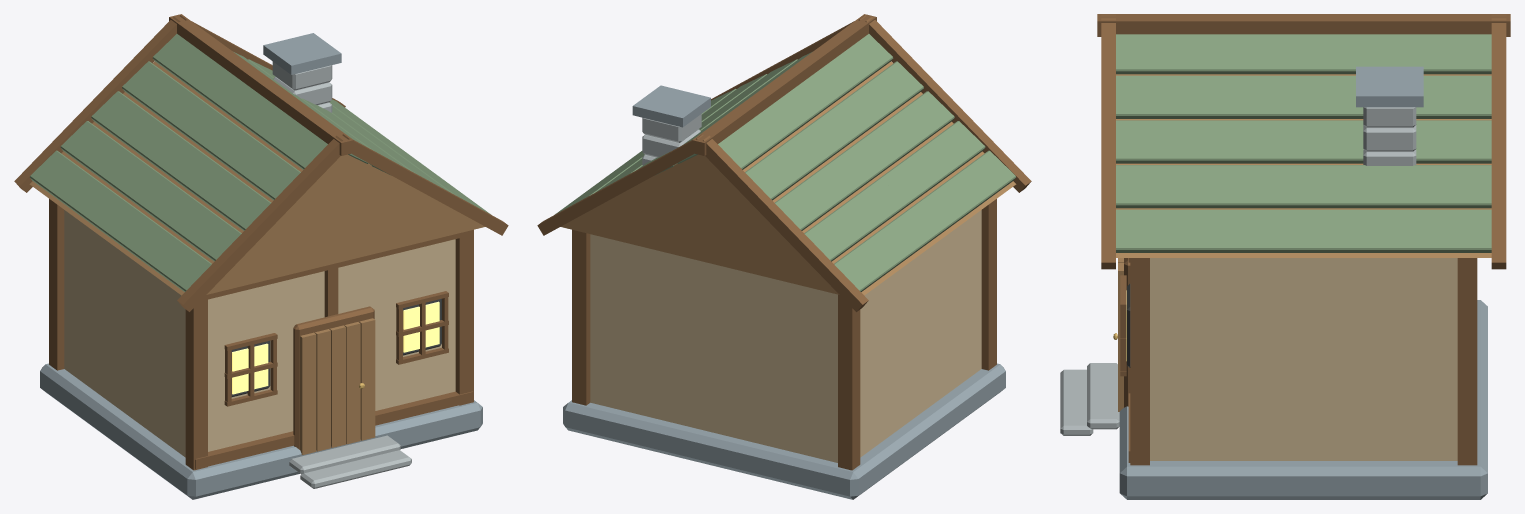
Rendered from HouseGreen.glb.
3 renders of one model, left to right at view 1: azimuth 30°, elevation 25°; view 2: azimuth 150°, elevation 25°; view 3: azimuth 270°, elevation 25°, orthographic. The views are drawn at different scales.
Parts seen in each view (by area): view 1: PlasterWalls, Gable, StoneFoundation, Ridge, GableTrim, CornerPost, CornerPost.001, CrossTimber, GableTrim.001, CornerPost.002, GableTrim.002, ChimneyCap (+45 smaller); view 2: PlasterWalls, Gable, StoneFoundation, Ridge, GableTrim.001, CornerPost.002, CornerPost.003, GableTrim, CornerPost, GableTrim.003, ChimneyCap, RoofShingle.014 (+32 smaller); view 3: PlasterWalls, StoneFoundation, Ridge, Gable, CornerPost.003, CornerPost.001, GableTrim.003, GableTrim.002, ChimneyCap, RoofShingle.051, RoofShingle.057, RoofShingle.037 (+32 smaller).
Part boxes in pixels (x1,y1,x2,y2): PlasterWalls: [64, 210, 455, 457]; Gable: [29, 61, 485, 295]; StoneFoundation: [40, 363, 482, 499]; Ridge: [169, 14, 353, 155]; GableTrim: [177, 135, 342, 311]; CornerPost: [185, 299, 207, 470]; CornerPost.001: [455, 229, 473, 405]; CrossTimber: [195, 391, 473, 469]; GableTrim.001: [14, 17, 180, 192]; CornerPost.002: [49, 199, 64, 370]; GableTrim.002: [342, 134, 508, 235]; ChimneyCap: [263, 33, 341, 74]; PlasterWalls: [590, 210, 981, 462]; Gable: [560, 61, 1016, 295]; StoneFoundation: [563, 363, 1005, 499]; Ridge: [692, 14, 876, 155]; GableTrim.001: [703, 135, 868, 311]; CornerPost.002: [838, 294, 860, 470]; CornerPost.003: [572, 229, 590, 405]; GableTrim: [865, 17, 1031, 192]; CornerPost: [981, 199, 996, 370]; GableTrim.003: [537, 134, 703, 235]; ChimneyCap: [632, 85, 710, 127]; RoofShingle.014: [849, 129, 902, 177]; PlasterWalls: [1150, 258, 1457, 460]; StoneFoundation: [1119, 300, 1487, 499]; Ridge: [1097, 14, 1510, 36]; Gable: [1116, 74, 1491, 257]; CornerPost.003: [1457, 258, 1477, 465]; CornerPost.001: [1130, 258, 1149, 465]; GableTrim.003: [1491, 18, 1506, 269]; GableTrim.002: [1101, 18, 1115, 269]; ChimneyCap: [1356, 66, 1423, 107]; RoofShingle.051: [1303, 165, 1367, 208]; RoofShingle.057: [1303, 209, 1367, 252]; RoofShingle.037: [1177, 75, 1240, 118].
Size of the model in its own units: 11.02 by 10.79 by 11.
